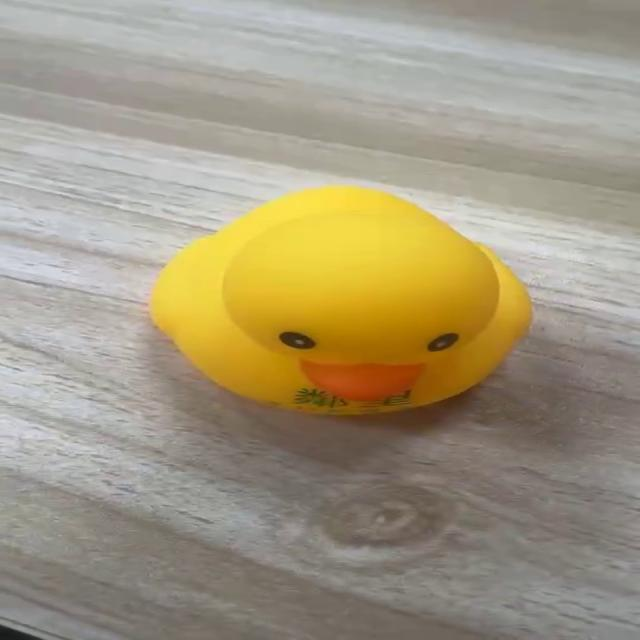yellow_duck: (147, 183, 533, 417)
